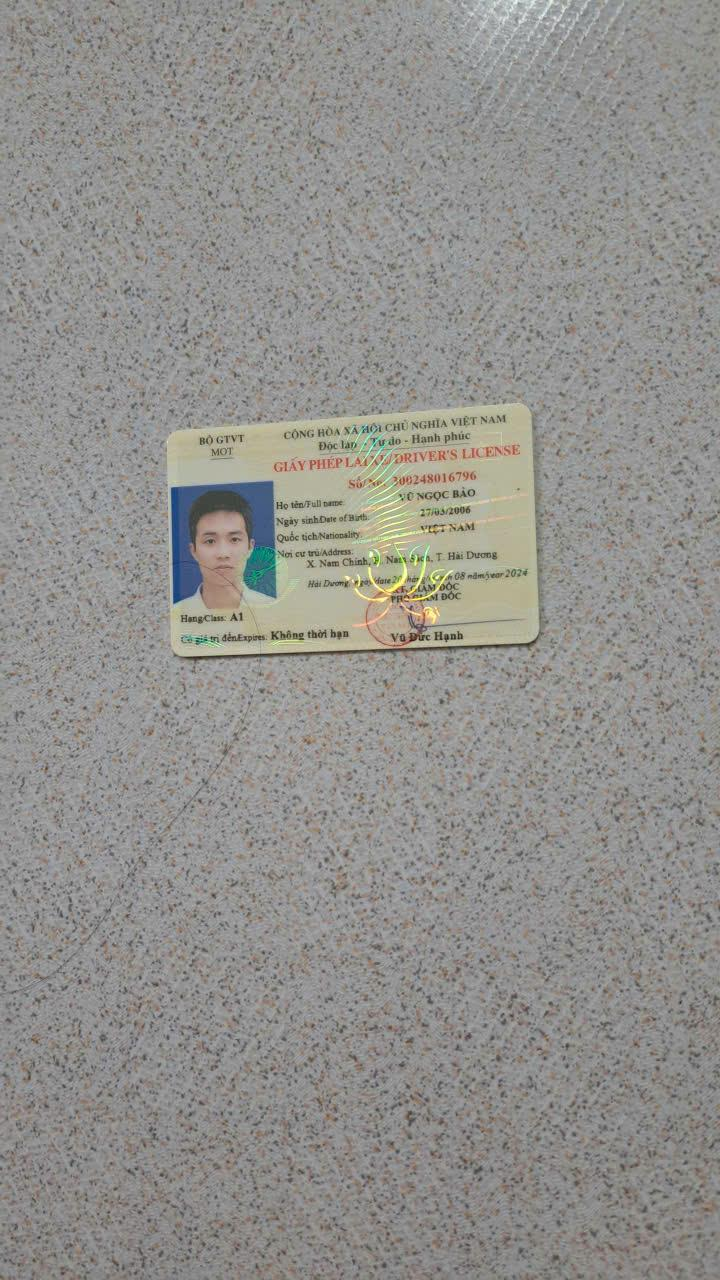gplx: (162, 395, 545, 665)
